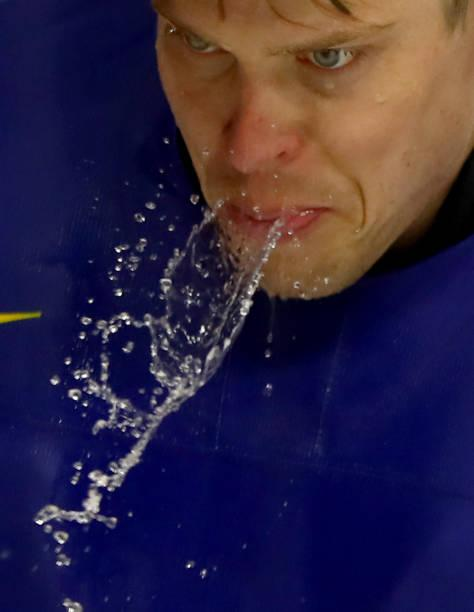Spitting: (52, 3, 474, 357)
